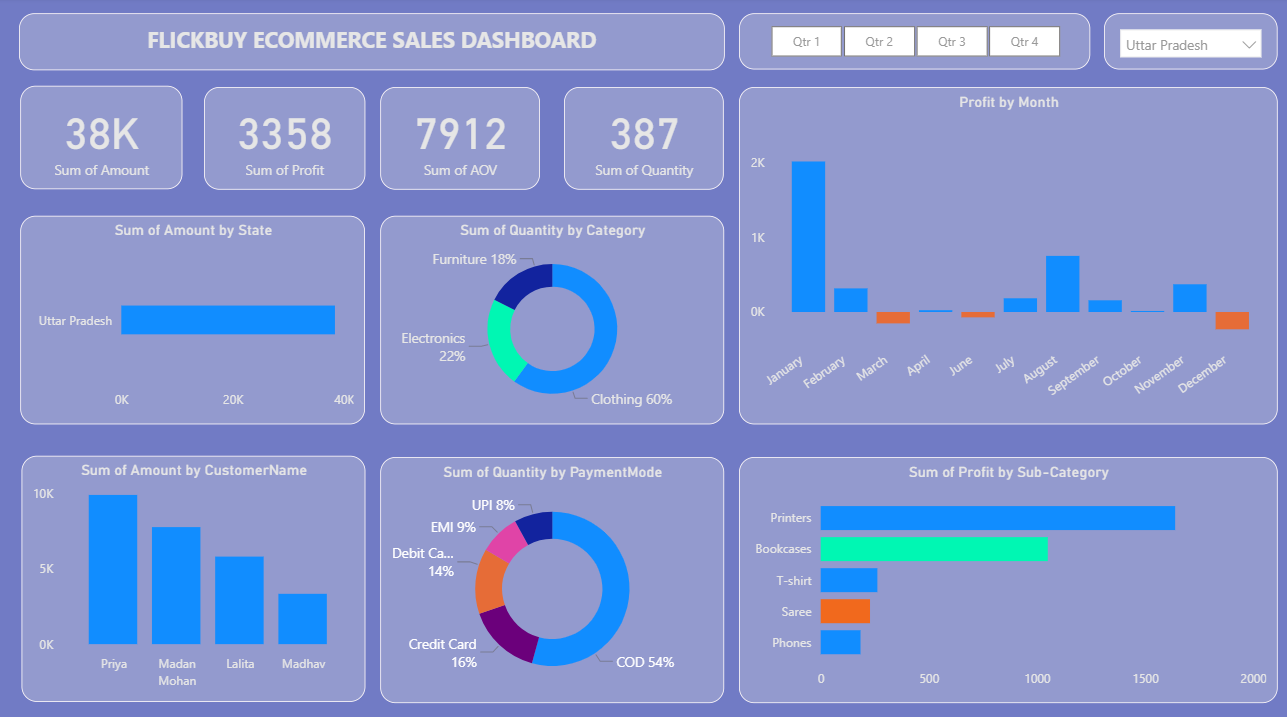

This screenshot's page, from the dashboard's own definition file:
{"tool":"powerbi","page":{"name":"Page 1","canvas":[1280,720],"ordinal":0},"visuals":[{"type":"textbox","box":[24.3,15.7,692.9,55.7],"z":0},{"type":"columnChart","title":"Profit by Month","fields":{"Y":["Details.Profit"],"Category":["Orders.Order Date.Variation.Date Hierarchy.Month"]},"box":[731.4,88.6,528.6,331.4],"z":1000},{"type":"barChart","fields":{"Category":["Details.Sub-Category"],"Y":["Details.Profit"]},"box":[731.4,451.4,528.6,241.4],"z":2000},{"type":"donutChart","fields":{"Y":["Details.Quantity"],"Category":["Details.PaymentMode"]},"box":[379.1,451.5,337.4,241.7],"z":3000},{"type":"donutChart","fields":{"Category":["Details.Category"],"Y":["Details.Quantity"]},"box":[379.1,214.7,337.4,204.9],"z":4000},{"type":"card","fields":{"Values":["Details.Amount"]},"box":[25.8,87.1,159.5,101.8],"z":5000},{"type":"card","fields":{"Values":["Details.Quantity"]},"box":[559.5,88.3,157.1,100.6],"z":6000},{"type":"card","fields":{"Values":["Details.Profit"]},"box":[206.1,88.3,158.3,100.6],"z":7000},{"type":"card","fields":{"Values":["Details.AOV"]},"box":[379.1,88.3,157.1,100.6],"z":8000},{"type":"barChart","fields":{"Category":["Orders.State"],"Y":["Details.Amount"]},"box":[25.8,214.7,338.7,204.9],"z":9000},{"type":"columnChart","fields":{"Category":["Orders.CustomerName"],"Y":["Details.Amount"]},"box":[27,450.3,337.4,241.7],"z":10000},{"type":"slicer","fields":{"Values":["Orders.Order Date.Variation.Date Hierarchy.Quarter"]},"box":[731.3,16,344.8,55.2],"z":11000},{"type":"slicer","fields":{"Values":["Orders.State"]},"box":[1089.6,16,170.6,55.2],"z":12000}]}

Visuals, with their boxes in screenshot pixels (x1, y1, x2, y2), scaled from the page's 1280x720 canvas onto the 1287x717 screenshot:
textbox: box(24, 16, 721, 71)
"Profit by Month" columnChart: box(735, 88, 1267, 418)
barChart - Details.Sub-Category x Details.Profit: box(735, 450, 1267, 690)
donutChart - Details.Quantity x Details.PaymentMode: box(381, 450, 720, 690)
donutChart - Details.Category x Details.Quantity: box(381, 214, 720, 418)
card - Details.Amount: box(26, 87, 186, 188)
card - Details.Quantity: box(563, 88, 721, 188)
card - Details.Profit: box(207, 88, 366, 188)
card - Details.AOV: box(381, 88, 539, 188)
barChart - Orders.State x Details.Amount: box(26, 214, 366, 418)
columnChart - Orders.CustomerName x Details.Amount: box(27, 448, 366, 689)
slicer - Orders.Order Date.Variation.Date Hierarchy.Quarter: box(735, 16, 1082, 71)
slicer - Orders.State: box(1096, 16, 1267, 71)
